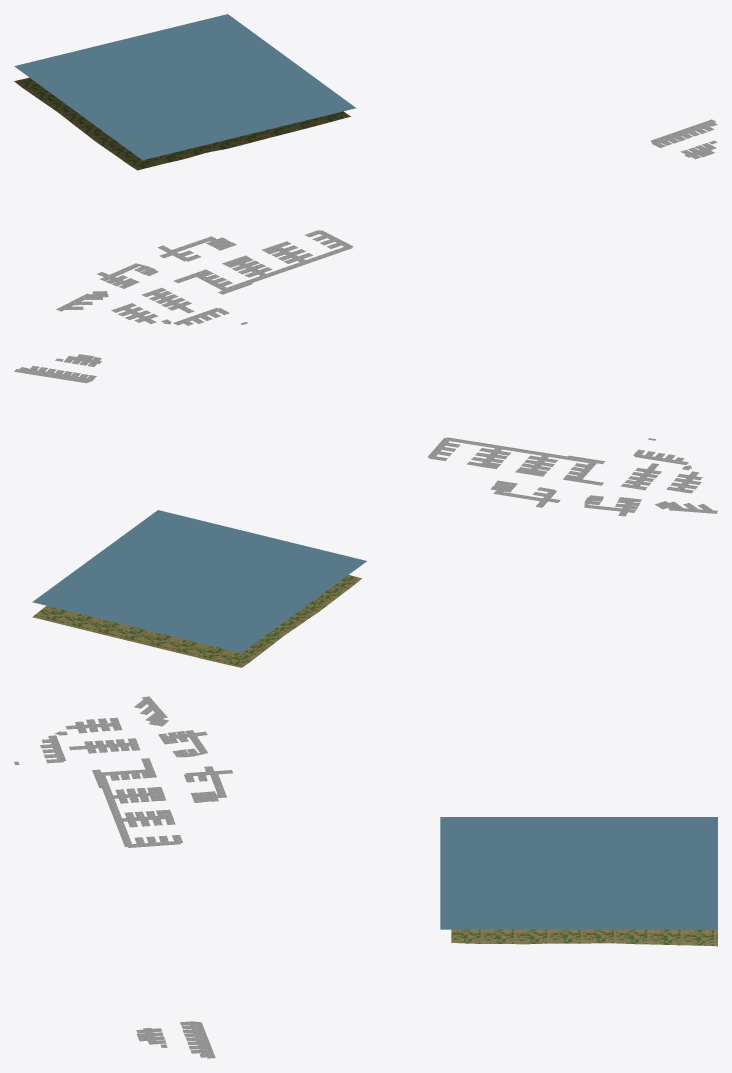
File: tile_25_-45.gltf
3 views of the same model, one above another, from view 1: azimuth 30°, elevation 25°; view 2: azimuth 150°, elevation 25°; view 3: azimuth 270°, elevation 25° (orthographic). The views are drawn at different scales.
Parts seen in each view (by area): view 1: Water, Piers_col, Terrain_col; view 2: Water, Piers_col, Terrain_col; view 3: Water, Piers_col, Terrain_col.
Boxes of the visible parts, x1=… form: Water: x1=14, y1=14, x2=356, y2=160; Piers_col: x1=56, y1=119, x2=717, y2=325; Terrain_col: x1=14, y1=77, x2=350, y2=170; Water: x1=32, y1=510, x2=366, y2=653; Piers_col: x1=14, y1=354, x2=717, y2=516; Terrain_col: x1=32, y1=575, x2=361, y2=667; Water: x1=440, y1=817, x2=717, y2=929; Piers_col: x1=14, y1=696, x2=232, y2=1058; Terrain_col: x1=451, y1=929, x2=717, y2=946.
Bounding box in the file's own units: 824 × 22.29 × 676.
Materials: 3 (2 with a texture image).
